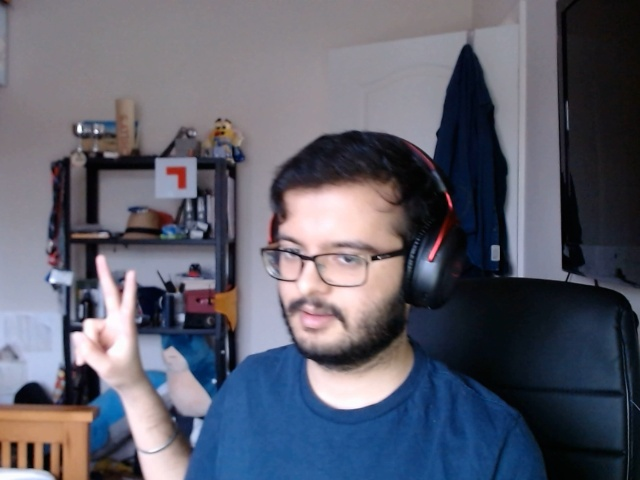Peace: (59, 254, 166, 398)
